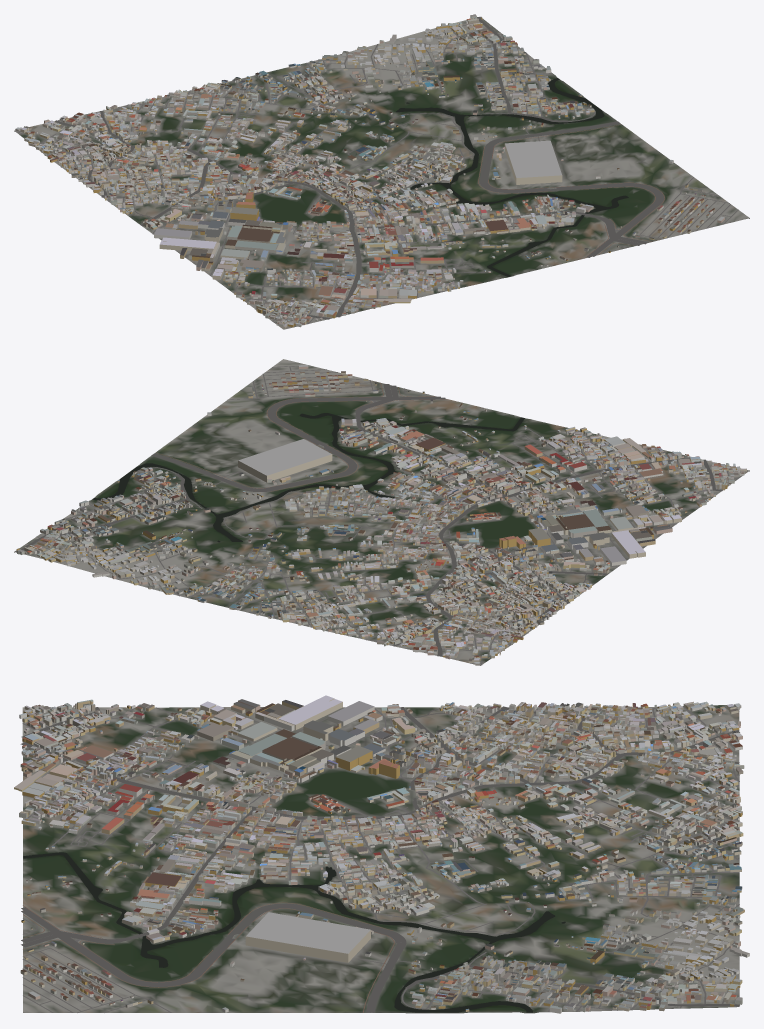
The picture shows the model from 3 angles, top to bottom: view 1: azimuth 30°, elevation 25°; view 2: azimuth 150°, elevation 25°; view 3: azimuth 270°, elevation 25°; orthographic projection. The views are drawn at different scales.
Parts seen in each view (by area): view 1: ground, buildings, roads, water; view 2: ground, buildings, roads, water; view 3: buildings, ground, roads, water.
Boxes of the visible parts, left/top/right/bottom form: ground: left=14, top=16, right=749, bottom=329; buildings: left=15, top=14, right=724, bottom=328; roads: left=15, top=17, right=738, bottom=323; water: left=396, top=78, right=628, bottom=276; ground: left=14, top=359, right=749, bottom=665; buildings: left=16, top=365, right=746, bottom=665; roads: left=15, top=365, right=740, bottom=665; water: left=92, top=413, right=524, bottom=542; buildings: left=14, top=695, right=749, bottom=1013; ground: left=22, top=704, right=739, bottom=1013; roads: left=20, top=705, right=739, bottom=1012; water: left=23, top=852, right=565, bottom=1012.
Bounding box in the file's own units: 1437 × 32.66 × 1438.
